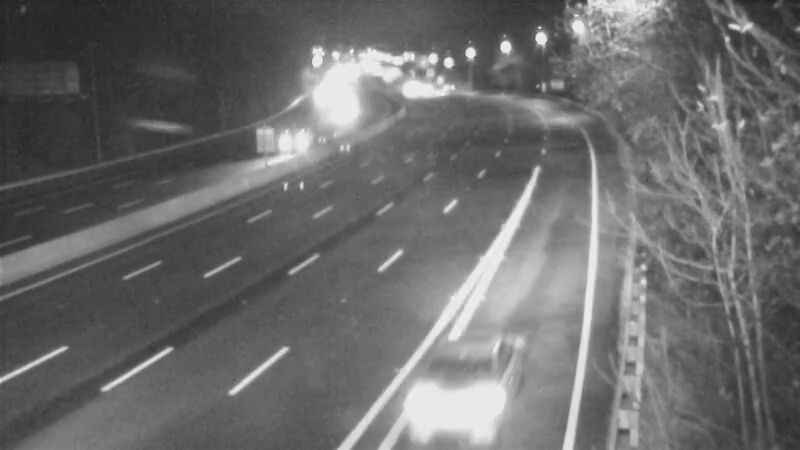vehicle: (405, 345, 515, 450), (266, 118, 316, 168)
